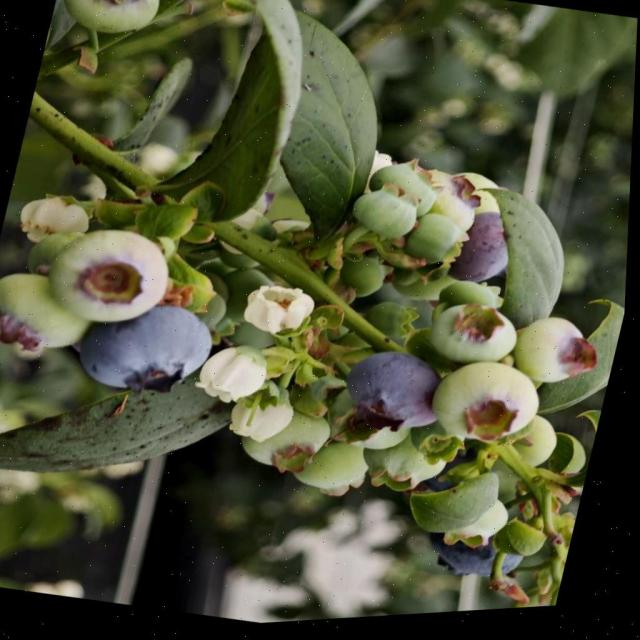RipeBlueBerry: (75, 290, 222, 409), (341, 348, 451, 440), (433, 524, 532, 593)
Semi-RipeBlueBerry: (454, 206, 524, 295)
UnripeBlueBerry: (42, 214, 180, 336), (426, 355, 554, 459), (0, 263, 100, 362), (430, 301, 528, 375), (55, 0, 168, 47)
